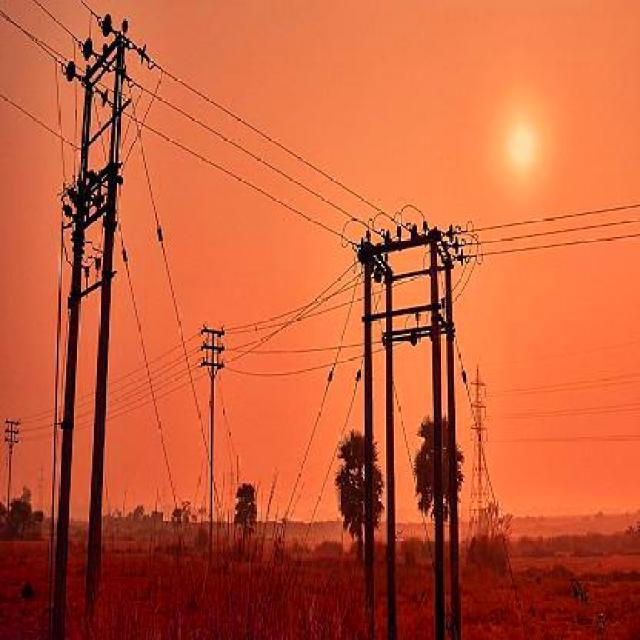crossarm: (356, 219, 466, 283), (65, 13, 137, 86), (62, 160, 124, 230), (380, 313, 457, 350), (360, 297, 446, 325), (373, 262, 455, 286), (196, 324, 227, 374)
pole: (84, 32, 127, 606), (51, 81, 93, 640), (357, 240, 375, 640), (428, 226, 445, 640), (445, 253, 460, 640), (384, 267, 397, 640), (208, 328, 216, 565)
wire: (32, 0, 640, 246), (79, 0, 640, 236), (132, 99, 230, 548), (93, 93, 188, 556), (122, 111, 356, 247), (300, 360, 364, 551), (47, 63, 66, 640), (0, 92, 80, 152), (222, 347, 385, 376), (465, 233, 640, 258), (0, 8, 65, 69), (224, 341, 383, 355)
